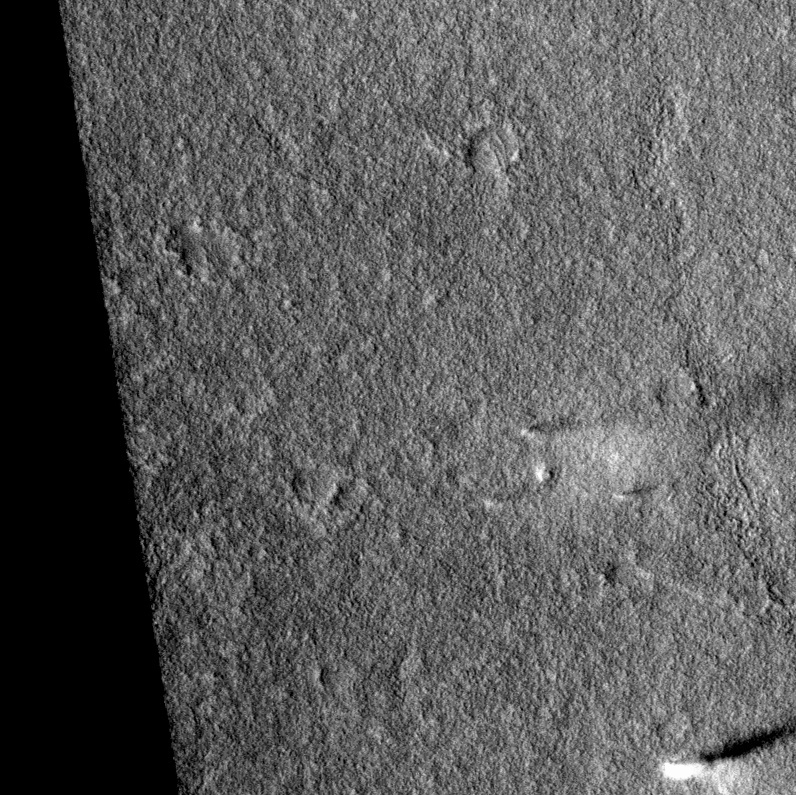dust_devil: (657, 711, 796, 794), (519, 410, 583, 444), (611, 483, 661, 503), (482, 489, 525, 509)
